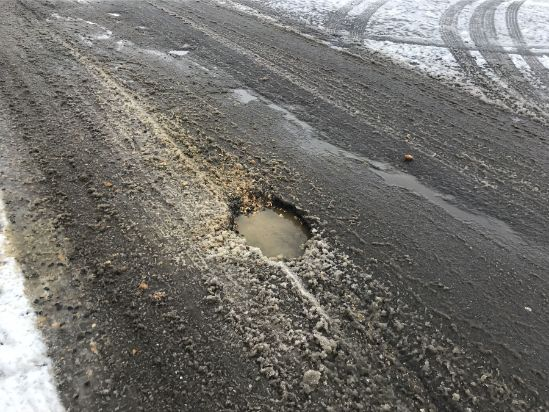pothole: (220, 184, 319, 260)
